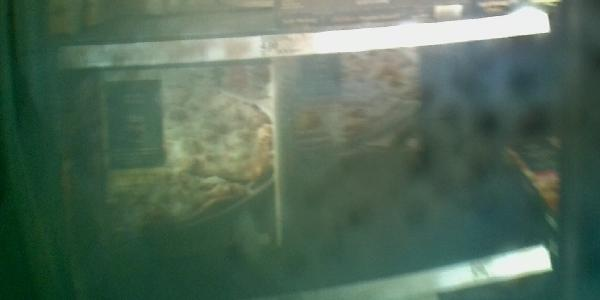pizza: (101, 70, 284, 258), (284, 40, 423, 177)
